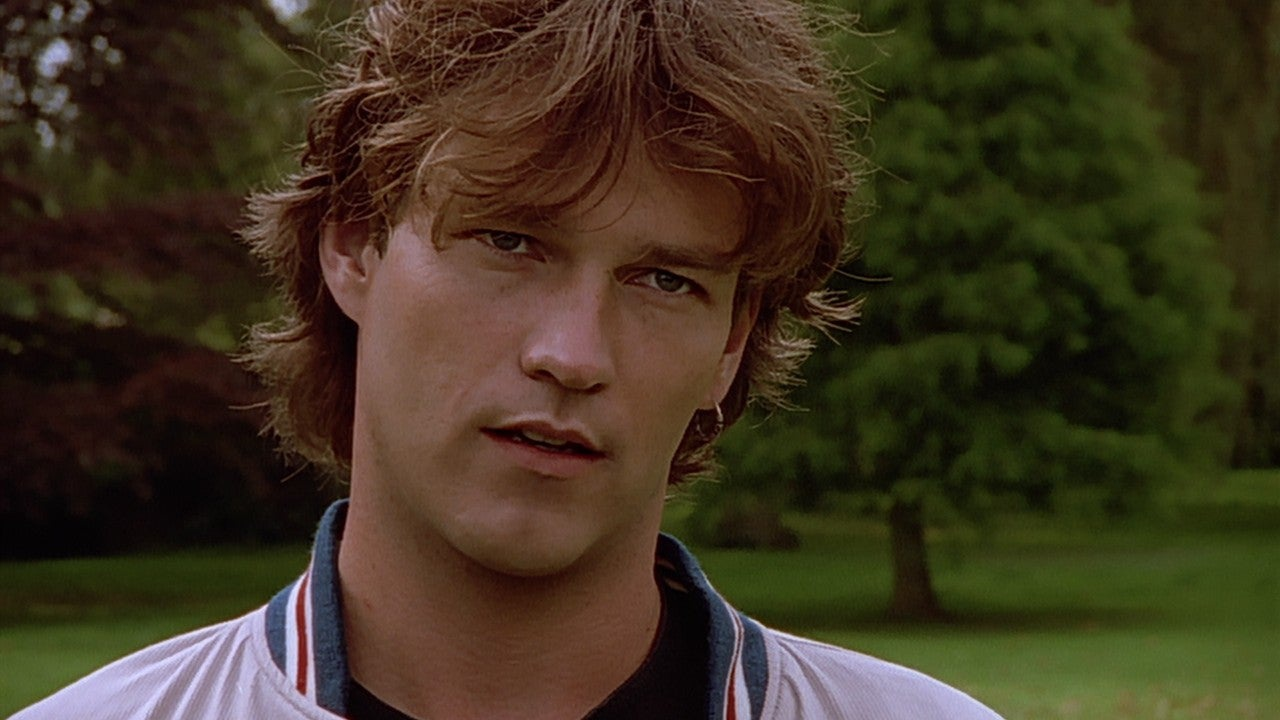bad: (348, 92, 810, 554)
